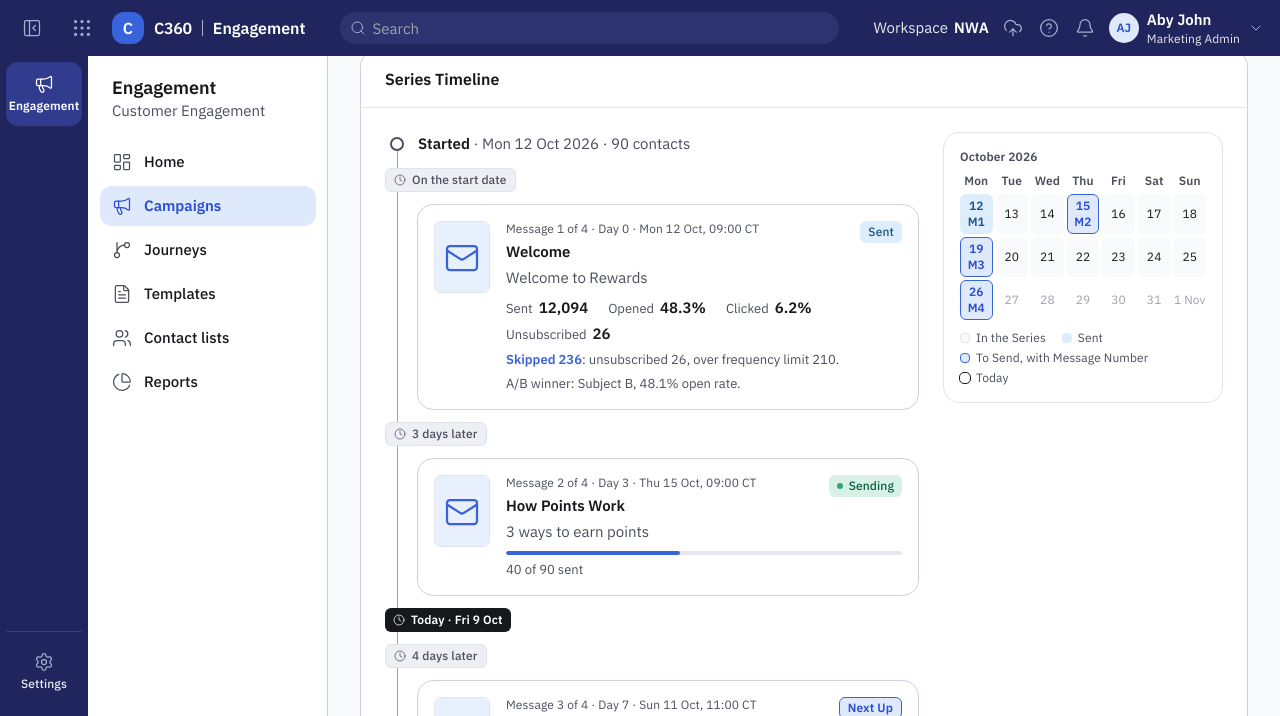
the Skipped drawer: View People lists who the message left out, with search, a reason filter and pages
(page scrolled)
Click the button "Skipped 236" at point(544, 360), box [506,351,582,369]
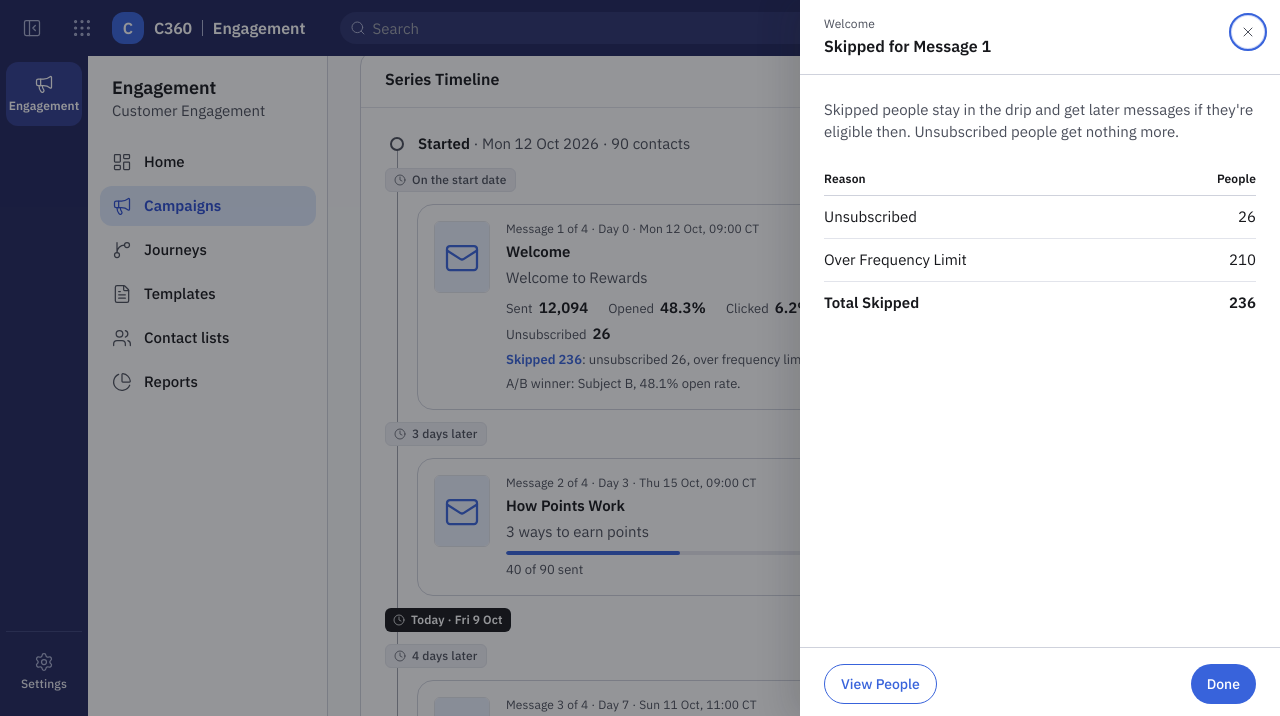
Click the button "View People" at point(880, 684), box [824,664,937,704]
(page scrolled)
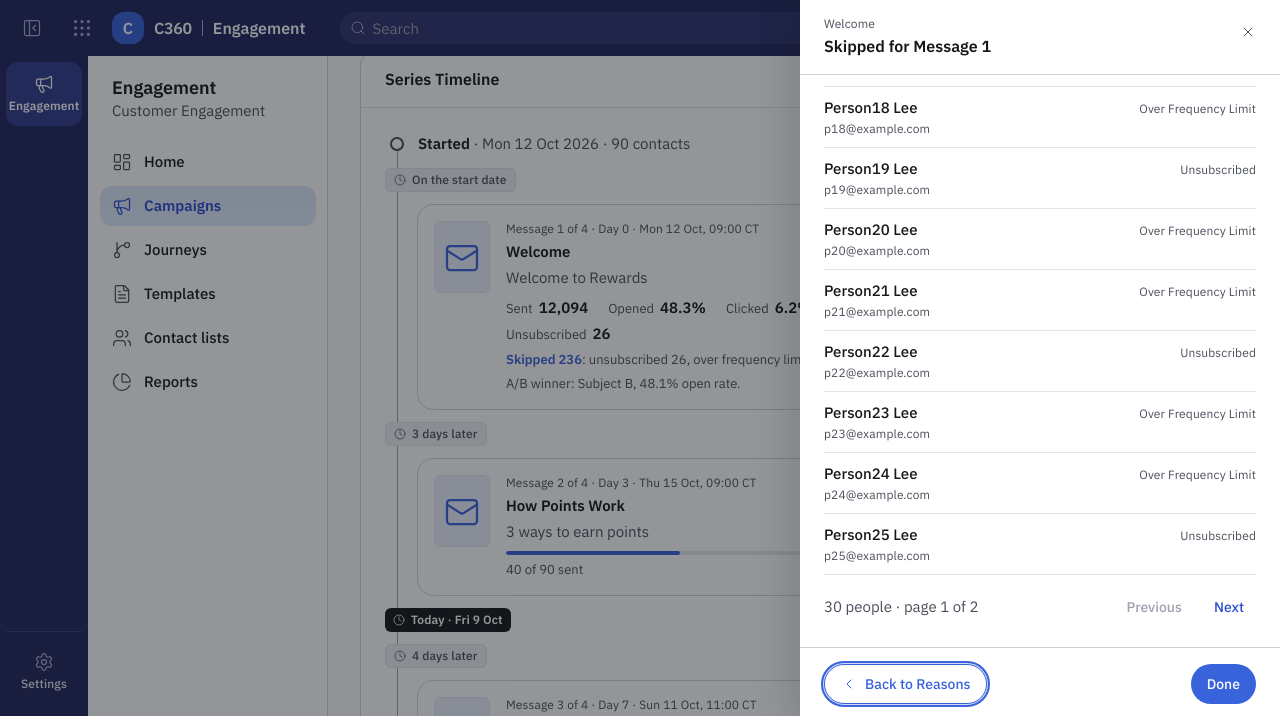
expect the text "30 people · page 1 of 2" is shown: met, box [824,596,978,618]
Click the button "Next" at point(1229, 607), box [1202,591,1256,623]
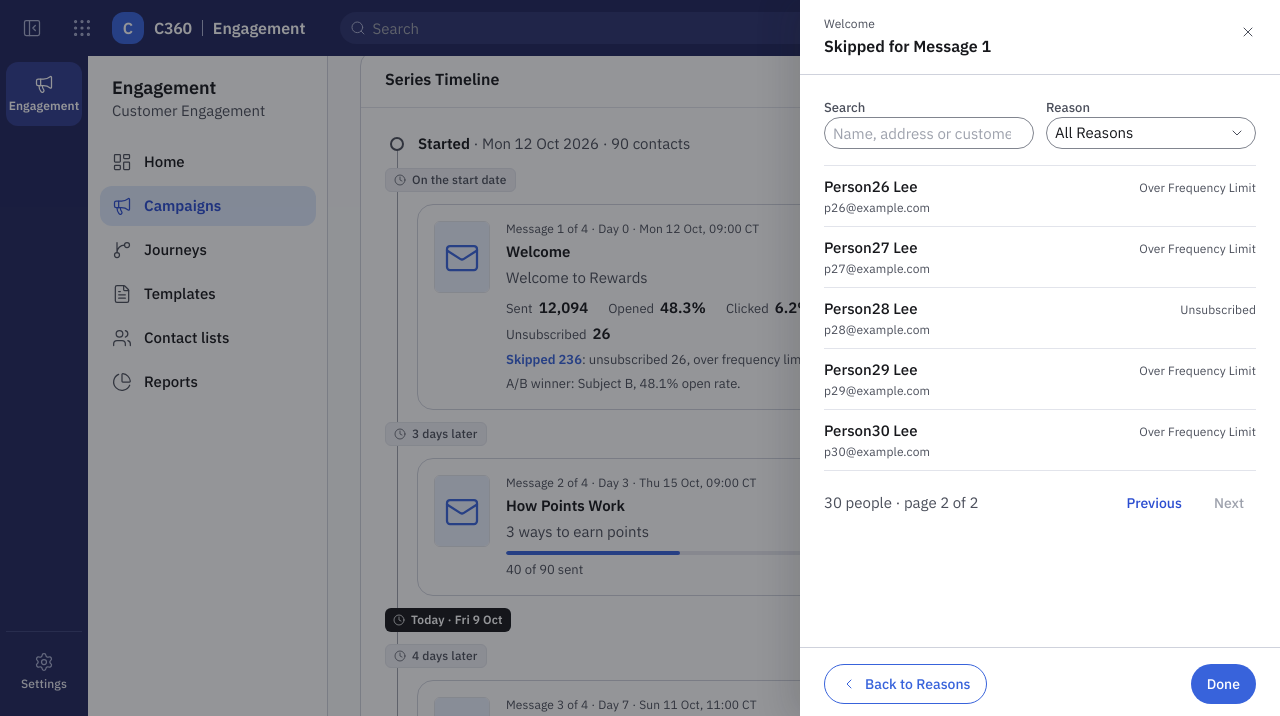
expect the text "30 people · page 2 of 2" is shown: met, box [824,492,978,514]
Select "Unsubscribed (10)" in the dropdown labelled "Reason" at point(1151, 133), box [1046,117,1256,149]
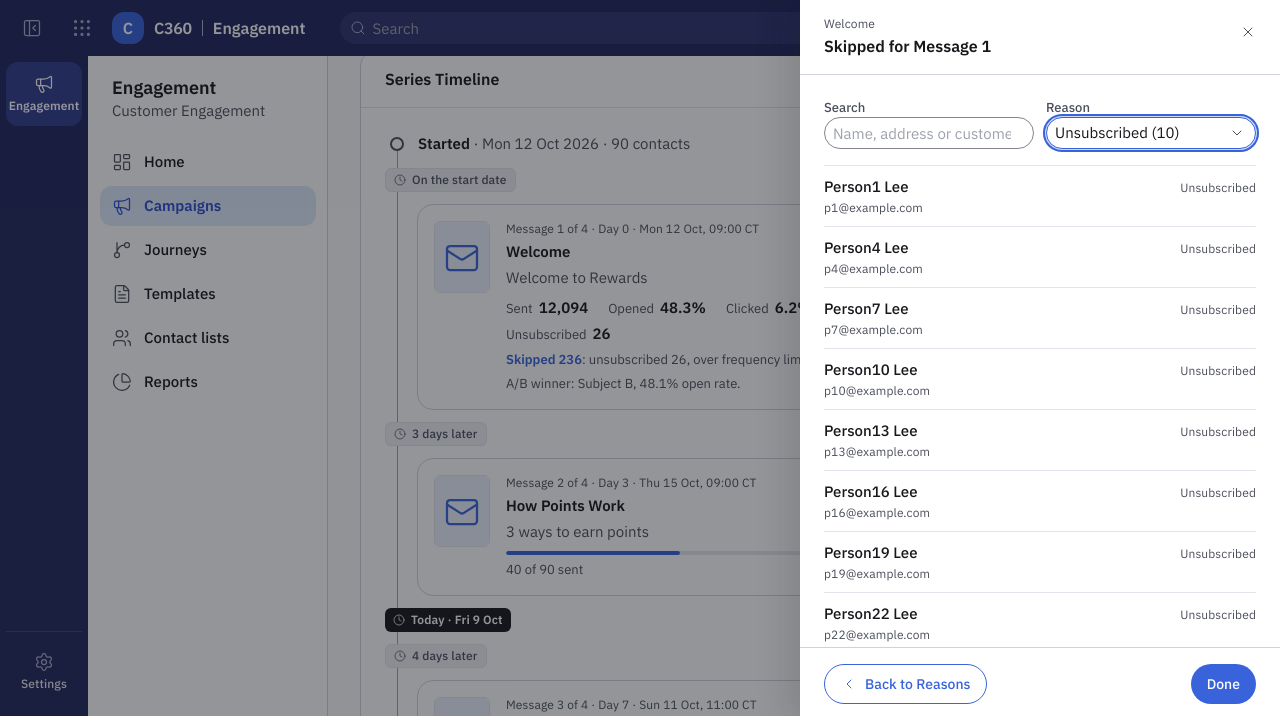
Type "p4@" into the search field labelled "Search" at point(929, 133), box [824,117,1034,149]
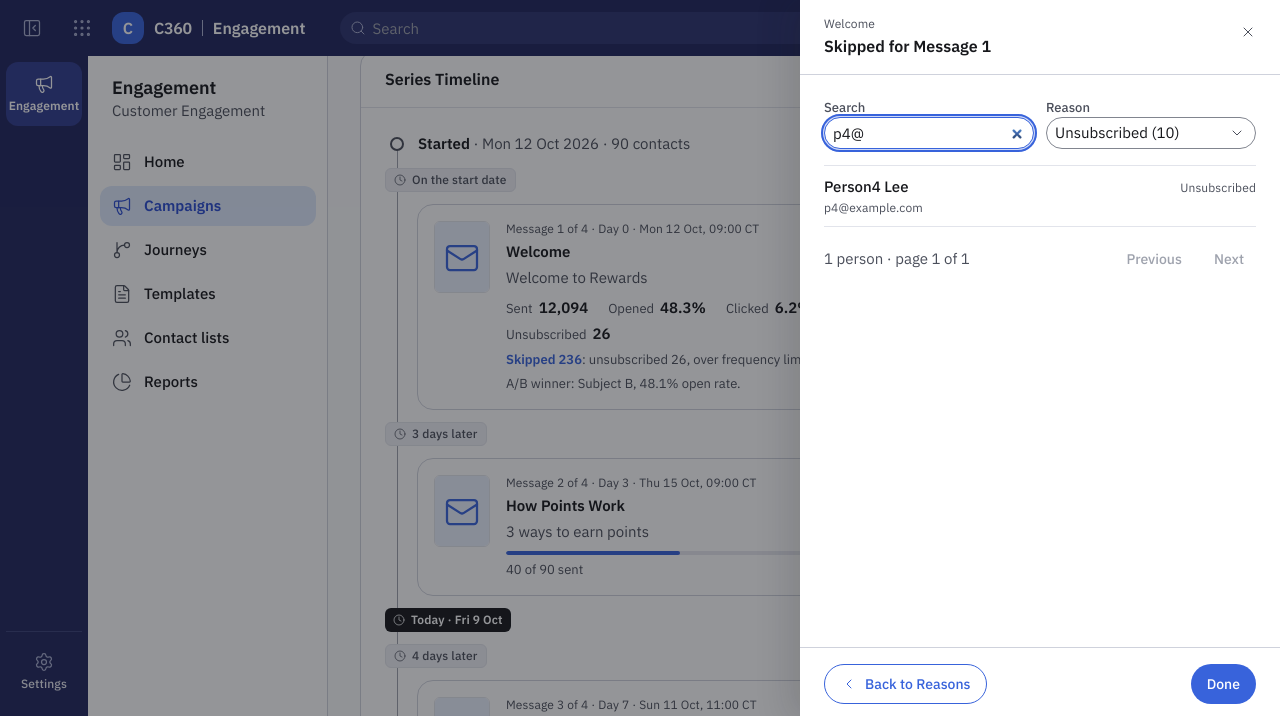
expect the text "1 person · page 1 of 1" is shown: met, box [824,248,970,270]
Click the button "Back to Reasons" at point(906, 684), box [824,664,988,704]
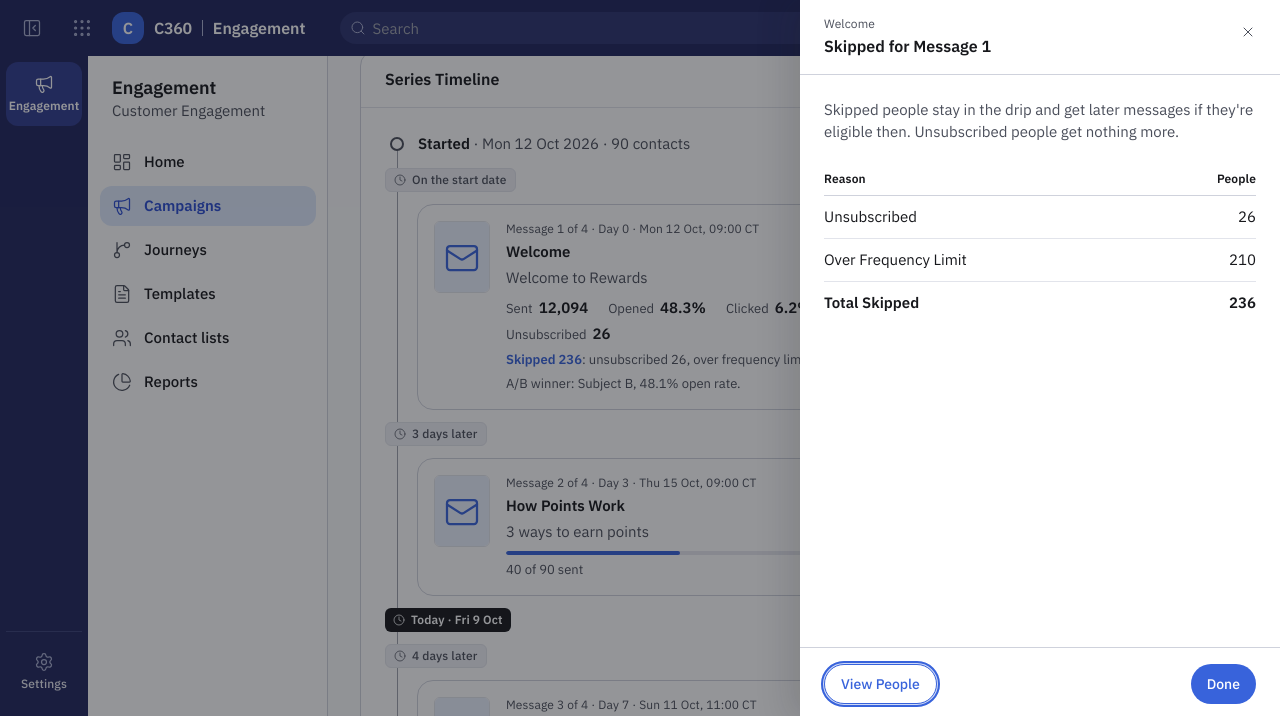
expect the table named "Skipped for message 1" is shown: met, box [824,163,1256,324]
